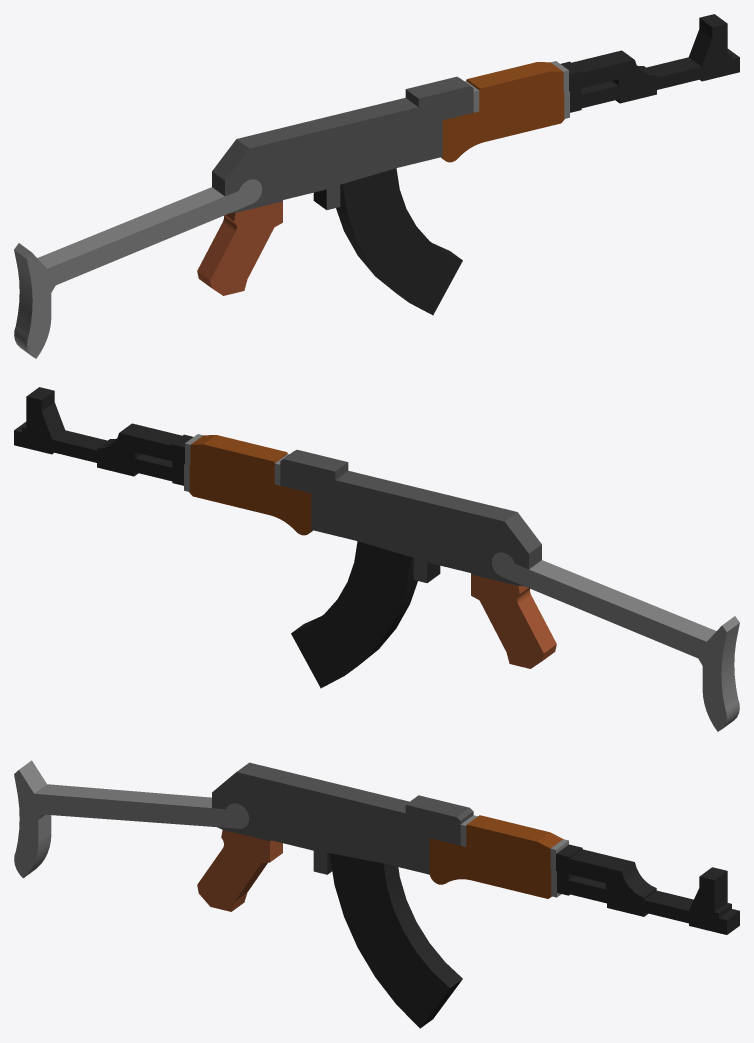
File: aks-47.dae
The picture shows the model from 3 angles, top to bottom: view 1: azimuth 30°, elevation 25°; view 2: azimuth 150°, elevation 25°; view 3: azimuth 330°, elevation 25°; orthographic projection.
Parts seen in each view (by area): view 1: group_0 (×6); view 2: group_0 (×6); view 3: group_0 (×6).
Part boxes in pixels (bbox=[...]): group_0 (×6): bbox=[14, 14, 739, 358]; group_0 (×6): bbox=[14, 387, 739, 731]; group_0 (×6): bbox=[14, 760, 739, 1028].
Bounding box in the file's own units: 37.43 × 1.18 × 11.05.
